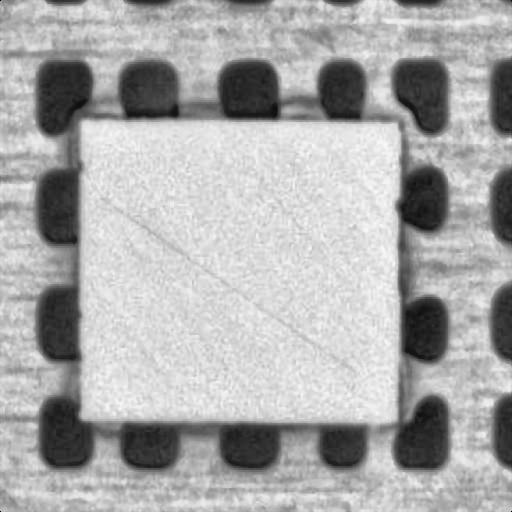DIE_CRACK: (129, 149, 463, 282)
